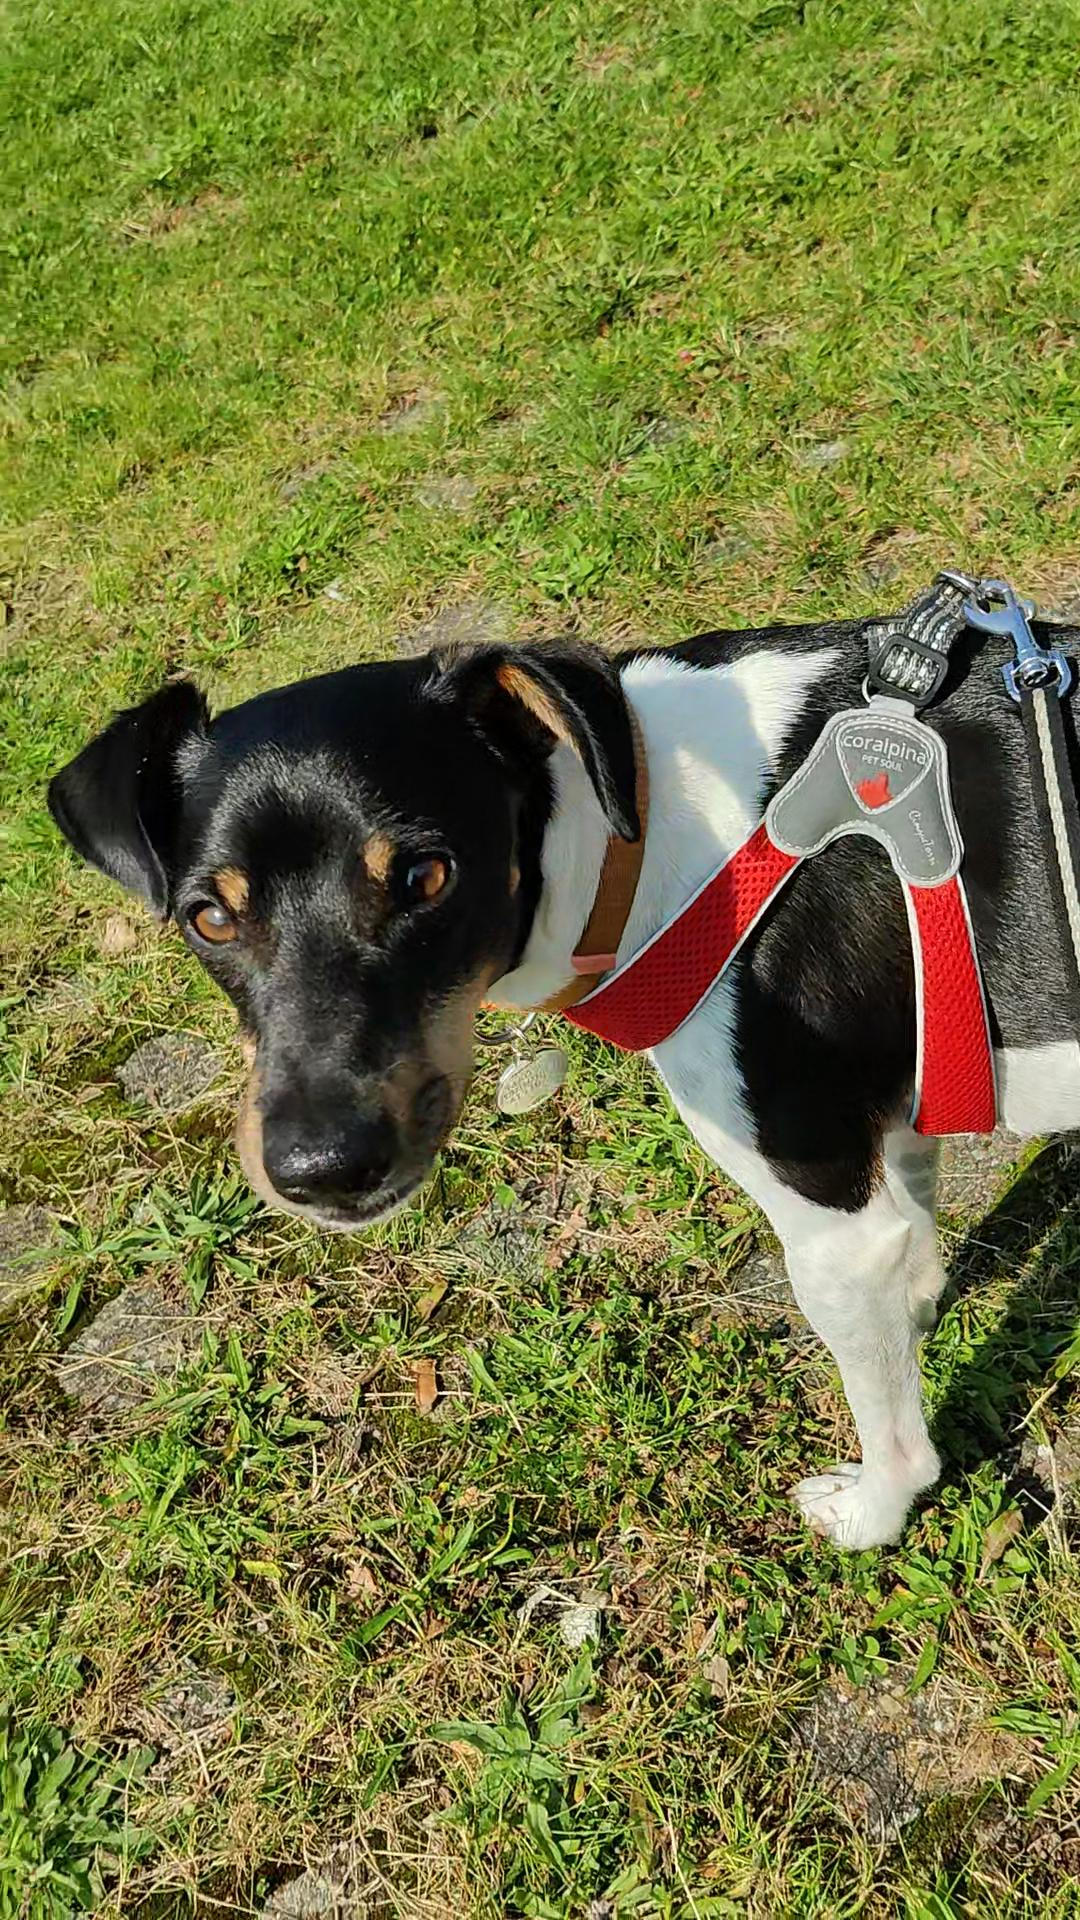Dog: (34, 579, 1079, 1561)
